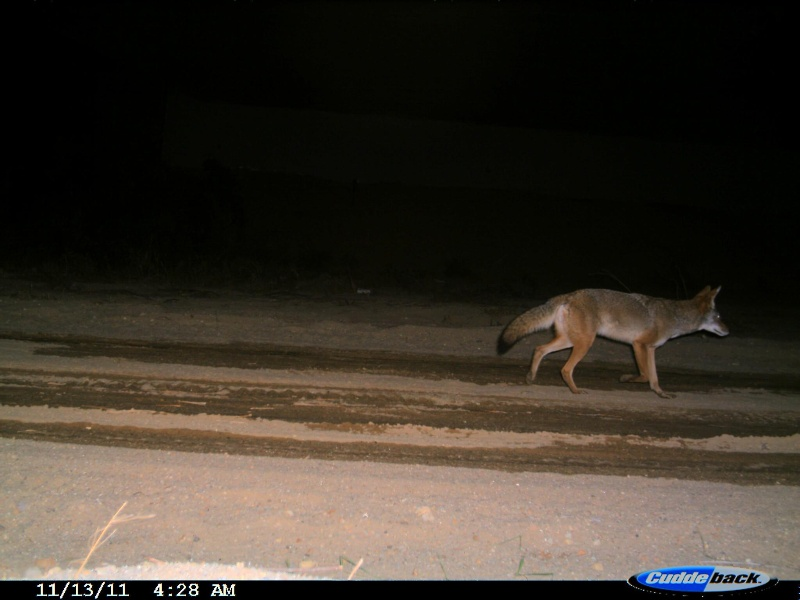coyote: (493, 274, 732, 399)
